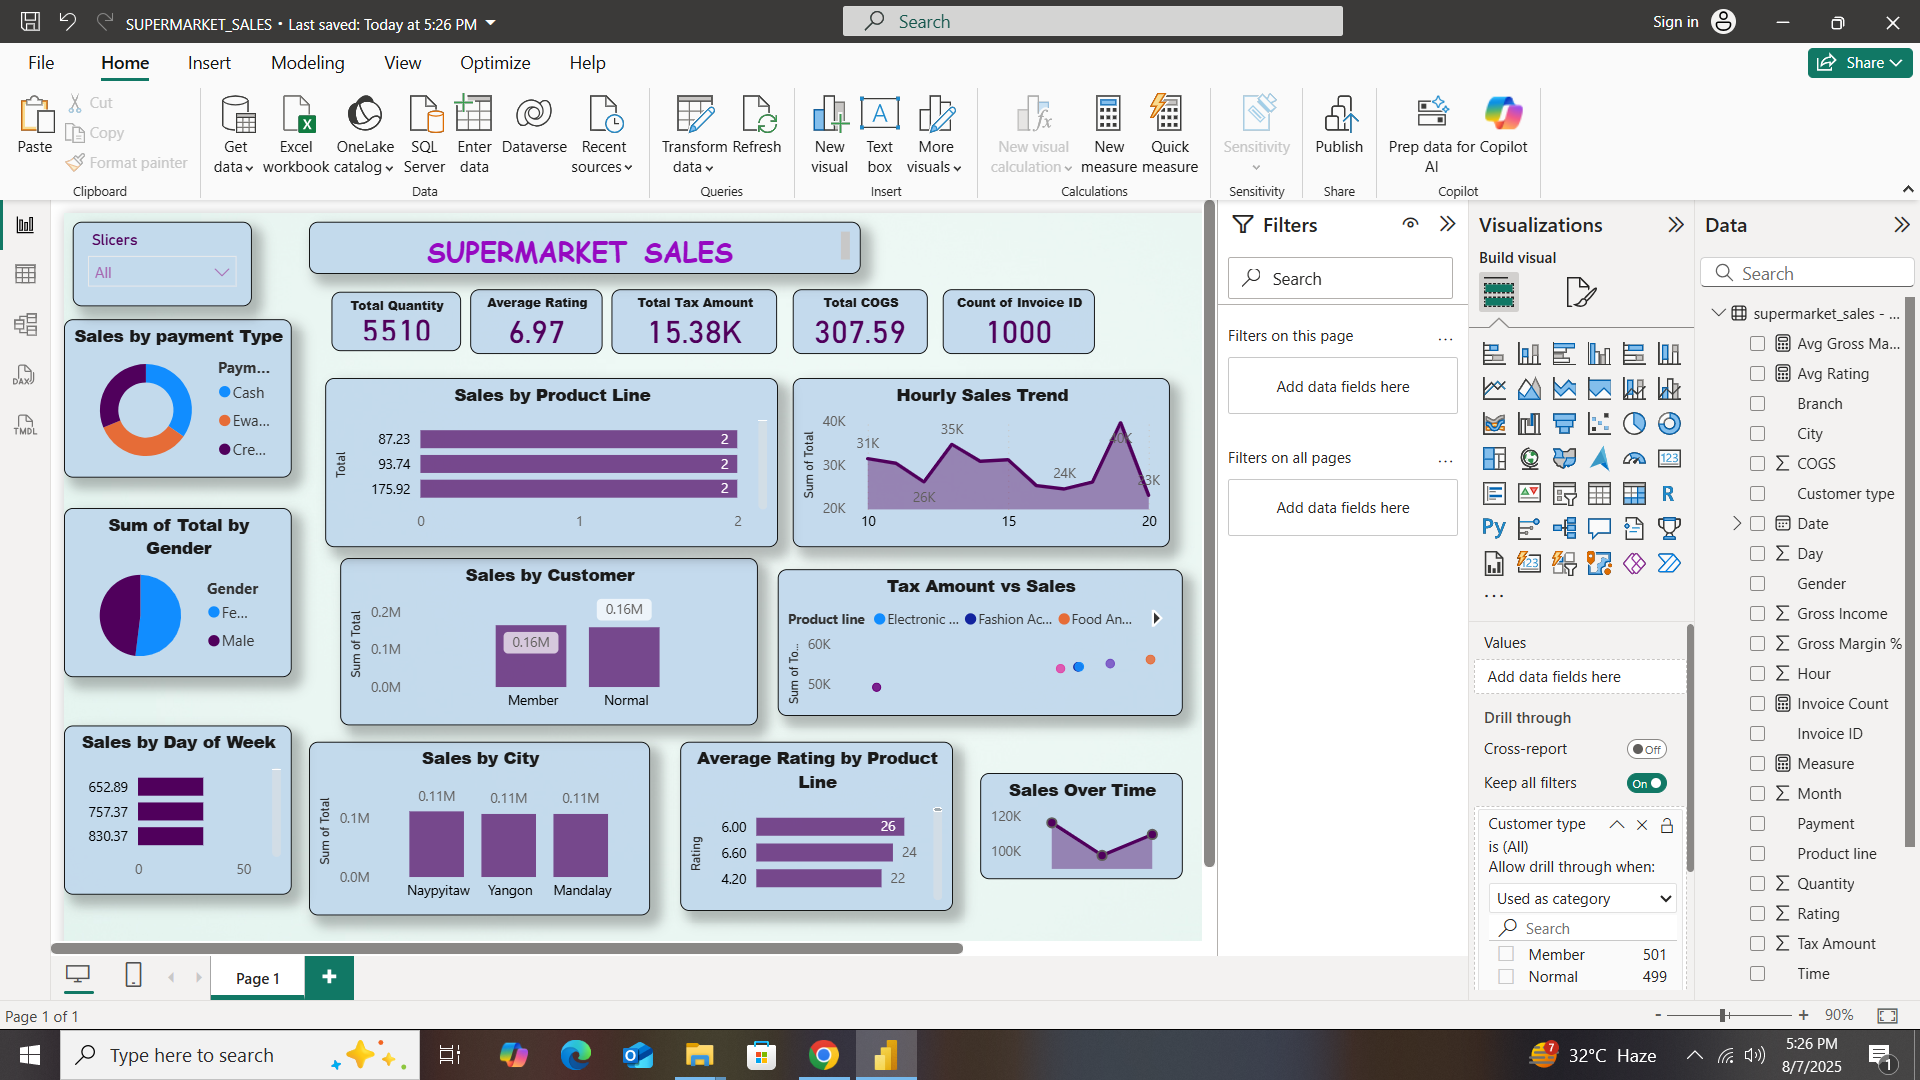

Layout of this report page (visuals, bound fields, positions):
{"tool":"powerbi","page":{"name":"Page 1","canvas":[1280,720],"ordinal":0},"visuals":[{"type":"clusteredColumnChart","title":"Sales by City","fields":{"Category":["supermarket_sales - Sheet1 - Copy.City"],"Y":["Sum(supermarket_sales - Sheet1 - Copy.Total)"]},"box":[217.8,470,303.3,154.4],"z":0},{"type":"donutChart","title":"Sales by payment Type","fields":{"Category":["supermarket_sales - Sheet1 - Copy.Payment"],"Y":["Sum(supermarket_sales - Sheet1 - Copy.Total)"]},"box":[0,94,202,141],"z":1000},{"type":"lineClusteredColumnComboChart","title":"Sales by Customer ","fields":{"Category":["supermarket_sales - Sheet1 - Copy.Customer type"],"Y":["Sum(supermarket_sales - Sheet1 - Copy.Total)"]},"box":[245.6,306.7,371.1,148.9],"z":2000},{"type":"pieChart","fields":{"Category":["supermarket_sales - Sheet1 - Copy.Gender"],"Y":["Sum(supermarket_sales - Sheet1 - Copy.Total)"]},"box":[0,262.2,202.2,150],"z":3000},{"type":"lineChart","title":"Sales Over Time","fields":{"Y":["Sum(supermarket_sales - Sheet1 - Copy.Total)"],"Category":["supermarket_sales - Sheet1 - Copy.Date.Variation.Date Hierarchy.Month"]},"box":[814.4,497.8,180,94.4],"z":4000},{"type":"areaChart","title":"Hourly Sales Trend","fields":{"Category":["supermarket_sales - Sheet1 - Copy.Hour"],"Y":["Sum(supermarket_sales - Sheet1 - Copy.Total)"]},"box":[647.8,146.7,335.6,150],"z":5000},{"type":"barChart","title":"Sales by Day of Week","fields":{"Y":["Sum(supermarket_sales - Sheet1 - Copy.Day)"],"Category":["supermarket_sales - Sheet1 - Copy.Total"]},"box":[0,455.6,202.2,150],"z":6000},{"type":"barChart","title":"Average Rating by Product Line","fields":{"Y":["CountNonNull(supermarket_sales - Sheet1 - Copy.Product line)"],"Category":["supermarket_sales - Sheet1 - Copy.Rating"]},"box":[547.8,470,242.2,150],"z":7000},{"type":"slicer","fields":{"Values":["supermarket_sales - Sheet1 - Copy.City","supermarket_sales - Sheet1 - Copy.Gross Margin %","supermarket_sales - Sheet1 - Copy.Month","supermarket_sales - Sheet1 - Copy.Gender","supermarket_sales - Sheet1 - Copy.Customer type","supermarket_sales - Sheet1 - Copy.Branch","supermarket_sales - Sheet1 - Copy.Payment"]},"box":[8,8,159,75],"z":8000},{"type":"scatterChart","title":"Tax Amount vs Sales","fields":{"X":["Sum(supermarket_sales - Sheet1 - Copy.Tax Amount)"],"Y":["Sum(supermarket_sales - Sheet1 - Copy.Total)"],"Series":["supermarket_sales - Sheet1 - Copy.Product line"],"Size":["Sum(supermarket_sales - Sheet1 - Copy.Gross Margin %)"]},"box":[634.4,316.7,360,130],"z":9000},{"type":"barChart","title":"Sales by Product Line","fields":{"Y":["CountNonNull(supermarket_sales - Sheet1 - Copy.Product line)"],"Category":["supermarket_sales - Sheet1 - Copy.Total"]},"box":[232.2,146.7,402.2,150],"z":10000},{"type":"card","title":"Total Quantity","fields":{"Values":["supermarket_sales - Sheet1 - Copy.Total Quantity"]},"box":[237.5,70,115,52.5],"z":11000},{"type":"card","title":"Average Rating","fields":{"Values":["supermarket_sales - Sheet1 - Copy.Avg Rating"]},"box":[361.1,67.8,117.8,57.8],"z":12000},{"type":"card","title":"Total Tax Amount","fields":{"Values":["Sum(supermarket_sales - Sheet1 - Copy.Tax Amount)"]},"box":[486.2,67.5,147.5,57.5],"z":13000},{"type":"card","title":"Total COGS","fields":{"Values":["supermarket_sales - Sheet1 - Copy.Avg Gross Margin%"]},"box":[647.5,67.5,120,57.5],"z":14000},{"type":"card","title":"Count of Invoice ID","fields":{"Values":["supermarket_sales - Sheet1 - Copy.Invoice Count"]},"box":[781.2,67.5,135,57.5],"z":15000},{"type":"textbox","box":[217.8,7.8,490,46.7],"z":16000}]}

Visuals, with their boxes on the page's 1280x720 design canvas (x1, y1, x2, y2). These are canvas units, not pixel positions in the 1920x1080 screenshot, which may show the page scaled, cropped or inside an application window:
"Sales by City" clusteredColumnChart: <region>218, 470, 521, 624</region>
"Sales by payment Type" donutChart: <region>0, 94, 202, 235</region>
"Sales by Customer " lineClusteredColumnComboChart: <region>246, 307, 617, 456</region>
pieChart - supermarket_sales - Sheet1 - Copy.Gender x Sum(supermarket_sales - Sheet1 - Copy.Total): <region>0, 262, 202, 412</region>
"Sales Over Time" lineChart: <region>814, 498, 994, 592</region>
"Hourly Sales Trend" areaChart: <region>648, 147, 983, 297</region>
"Sales by Day of Week" barChart: <region>0, 456, 202, 606</region>
"Average Rating by Product Line" barChart: <region>548, 470, 790, 620</region>
slicer - supermarket_sales - Sheet1 - Copy.City x supermarket_sales - Sheet1 - Copy.Gross Margin %: <region>8, 8, 167, 83</region>
"Tax Amount vs Sales" scatterChart: <region>634, 317, 994, 447</region>
"Sales by Product Line" barChart: <region>232, 147, 634, 297</region>
"Total Quantity" card: <region>238, 70, 352, 122</region>
"Average Rating" card: <region>361, 68, 479, 126</region>
"Total Tax Amount" card: <region>486, 68, 634, 125</region>
"Total COGS" card: <region>648, 68, 768, 125</region>
"Count of Invoice ID" card: <region>781, 68, 916, 125</region>
textbox: <region>218, 8, 708, 54</region>
